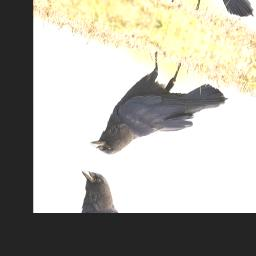Crow: (87, 37, 233, 192)
